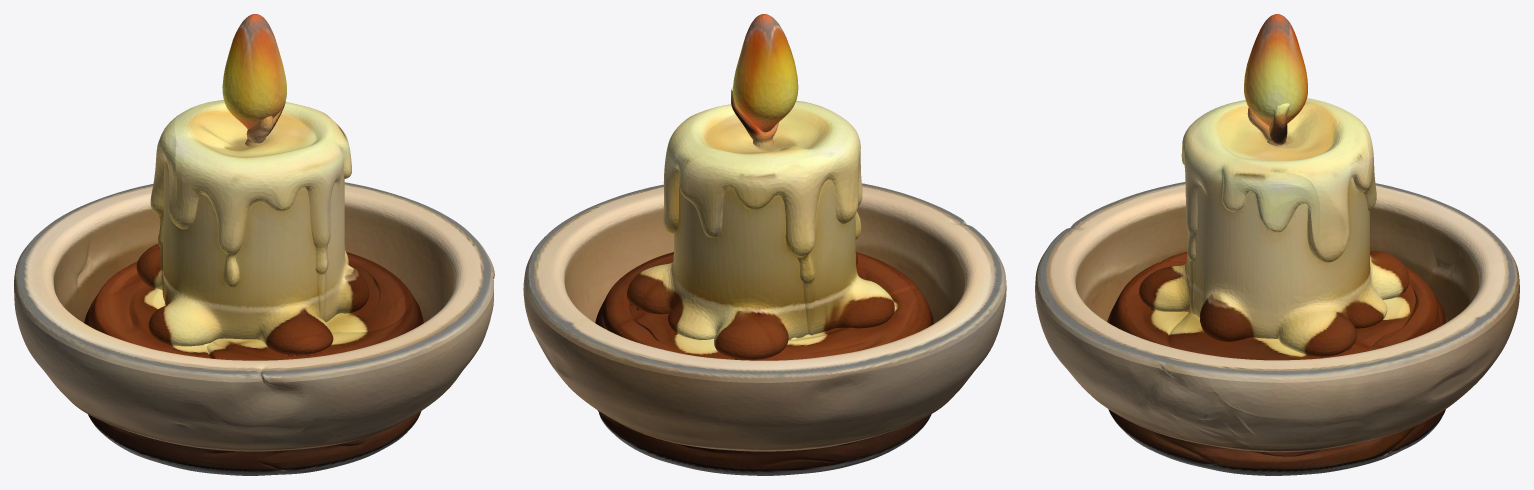
Rendered from candle_3.glb.
The picture shows the model from 3 angles, left to right: view 1: azimuth 30°, elevation 25°; view 2: azimuth 150°, elevation 25°; view 3: azimuth 270°, elevation 25°; orthographic projection.
Parts seen in each view (by area): view 1: tripo_node_7e45b381-e601-4a4a-a3fc-c7f5f4f3f91a; view 2: tripo_node_7e45b381-e601-4a4a-a3fc-c7f5f4f3f91a; view 3: tripo_node_7e45b381-e601-4a4a-a3fc-c7f5f4f3f91a.
Boxes of the visible parts, x1=… form: tripo_node_7e45b381-e601-4a4a-a3fc-c7f5f4f3f91a: x1=14, y1=14, x2=494, y2=475; tripo_node_7e45b381-e601-4a4a-a3fc-c7f5f4f3f91a: x1=523, y1=14, x2=1006, y2=475; tripo_node_7e45b381-e601-4a4a-a3fc-c7f5f4f3f91a: x1=1035, y1=14, x2=1519, y2=475.
Size of the model in its own units: 0.9801 by 0.8799 by 0.9804.
1 material, 1 textured.
